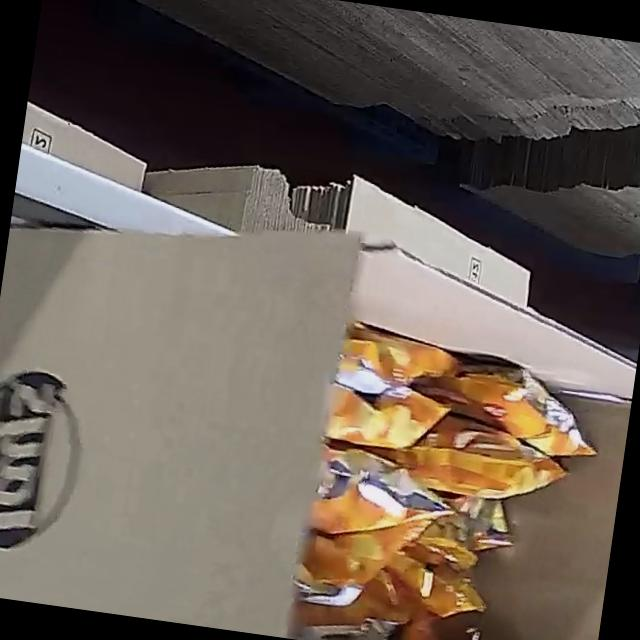cheese: (290, 360, 610, 640)
